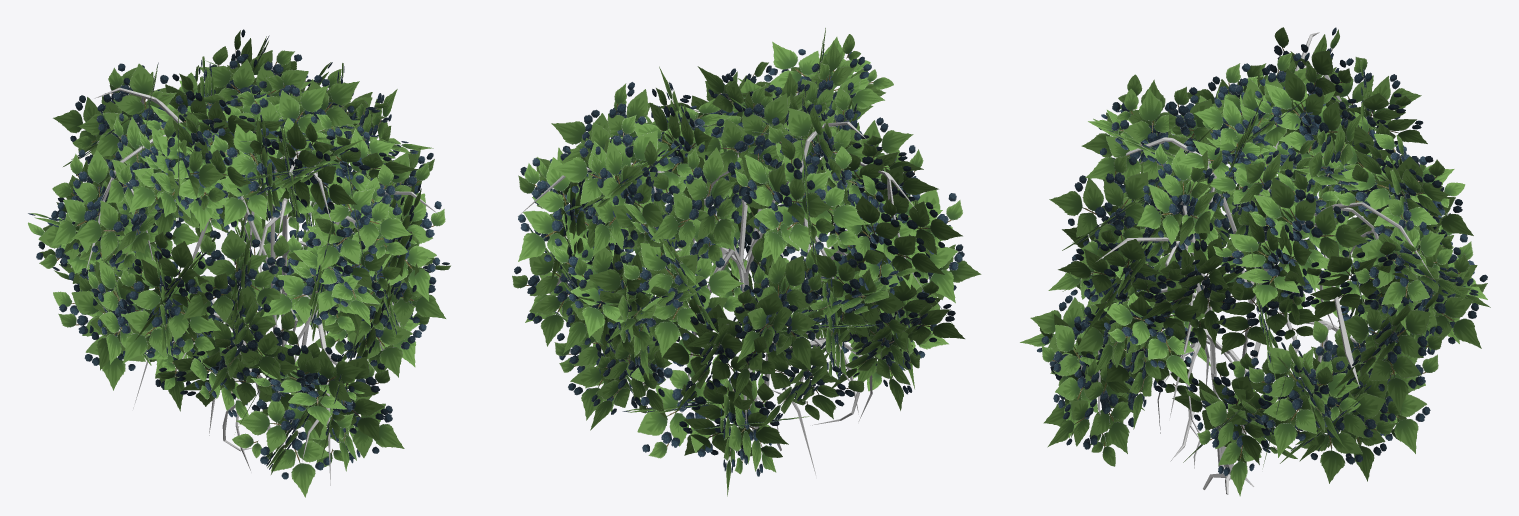
The model's file is SM_Blackberry.fbx.
The picture shows the model from 3 angles, left to right: view 1: azimuth 30°, elevation 25°; view 2: azimuth 150°, elevation 25°; view 3: azimuth 270°, elevation 25°; orthographic projection. The views are drawn at different scales.
Parts seen in each view (by area): view 1: SM_Blackberry; view 2: SM_Blackberry; view 3: SM_Blackberry.
Part boxes in pixels (x1,y1,x2,y2): SM_Blackberry: [28, 29, 450, 497]; SM_Blackberry: [512, 28, 981, 496]; SM_Blackberry: [1020, 27, 1490, 496].
Size of the model in its own units: 156 by 154 by 160.
